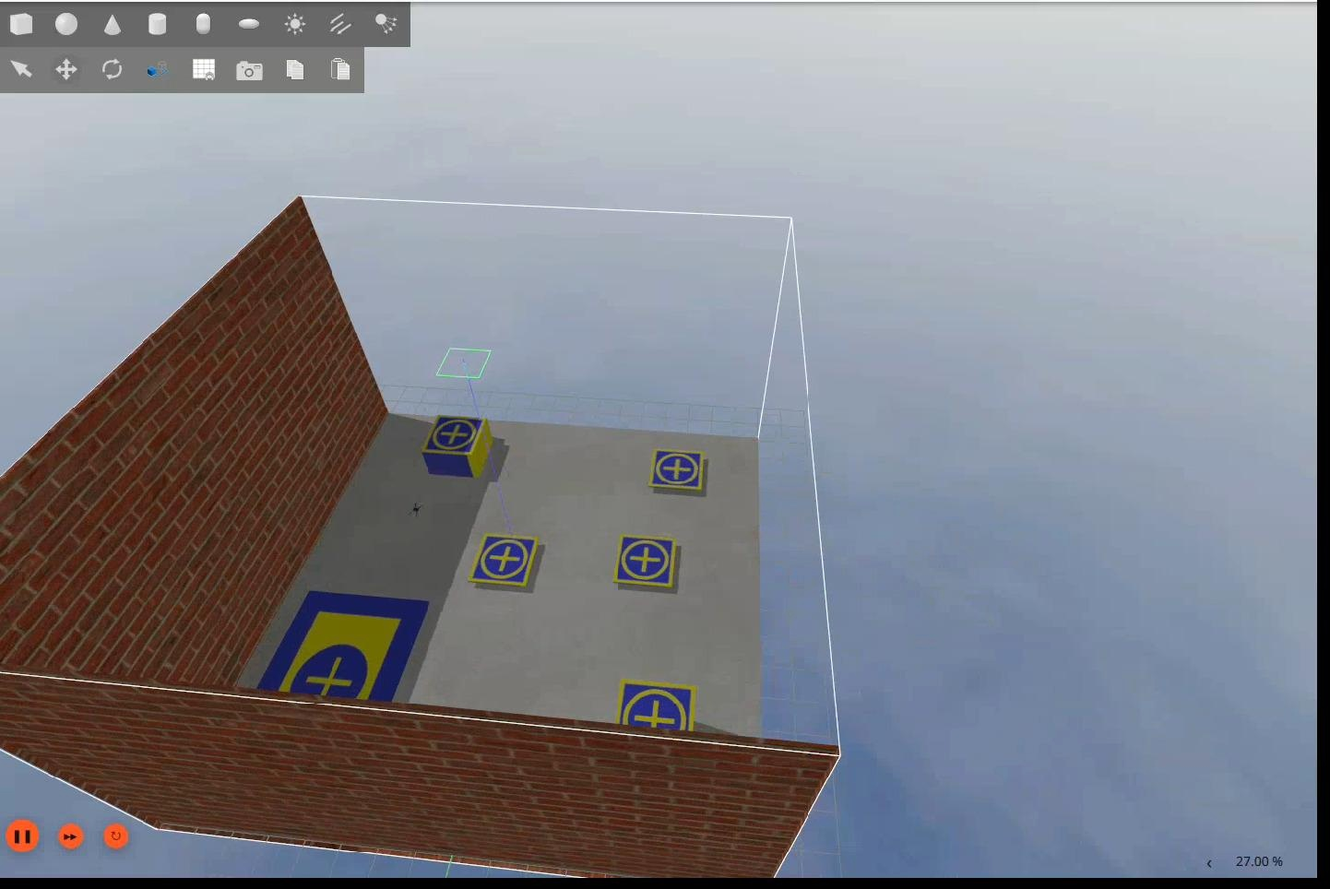large_base: (258, 590, 430, 705)
small_base: (617, 677, 695, 738), (469, 535, 540, 590), (614, 534, 680, 590), (647, 447, 709, 494), (425, 415, 488, 461)
